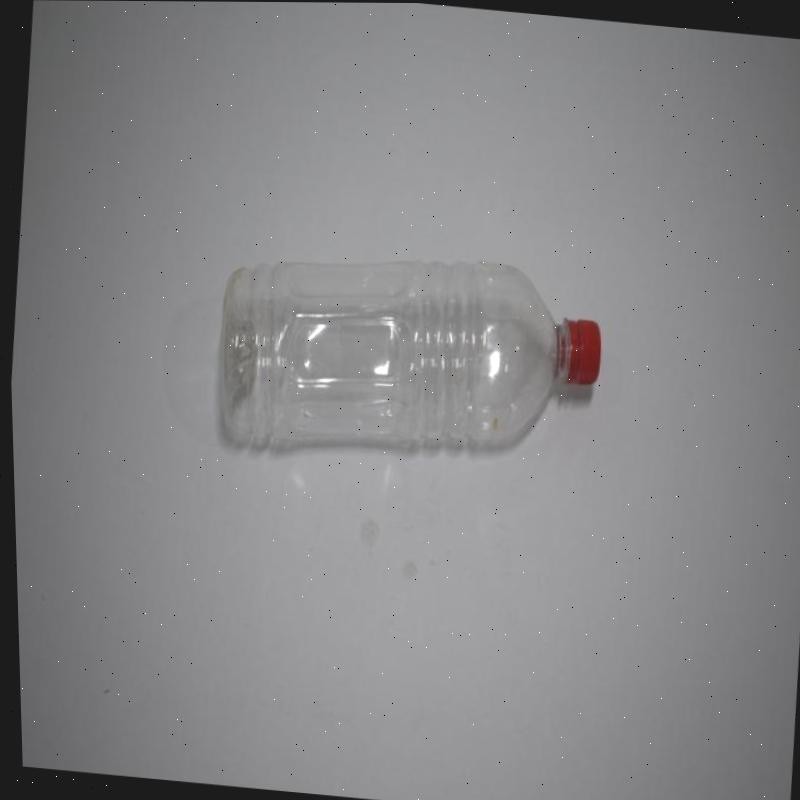botella: (208, 237, 607, 485)
